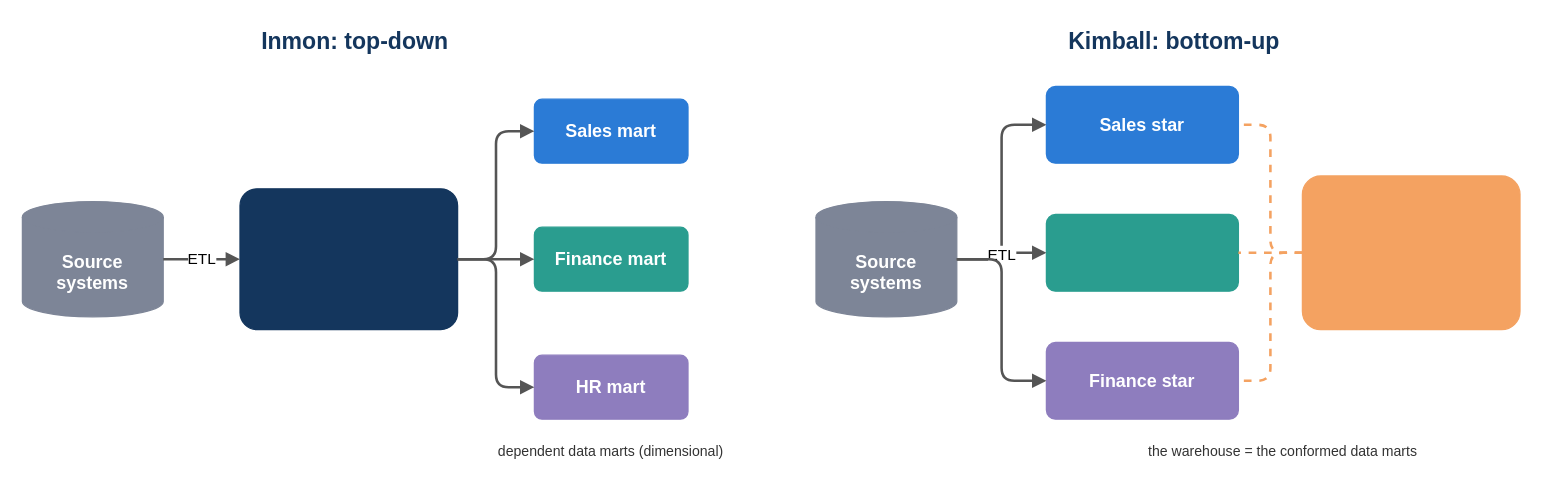
Some shapes in this 1555 by 492 pixel diagram are drawn without their labels. The centre of each missing label's shape, as x and y in pixels:
"Conformed dimensions Date, Product, Store, Customer" belongs at (x=1410, y=252).
"Enterprise data warehouse integrated, normalized (3NF)" belongs at (x=348, y=259).
"Inventory star" belongs at (x=1141, y=252).
